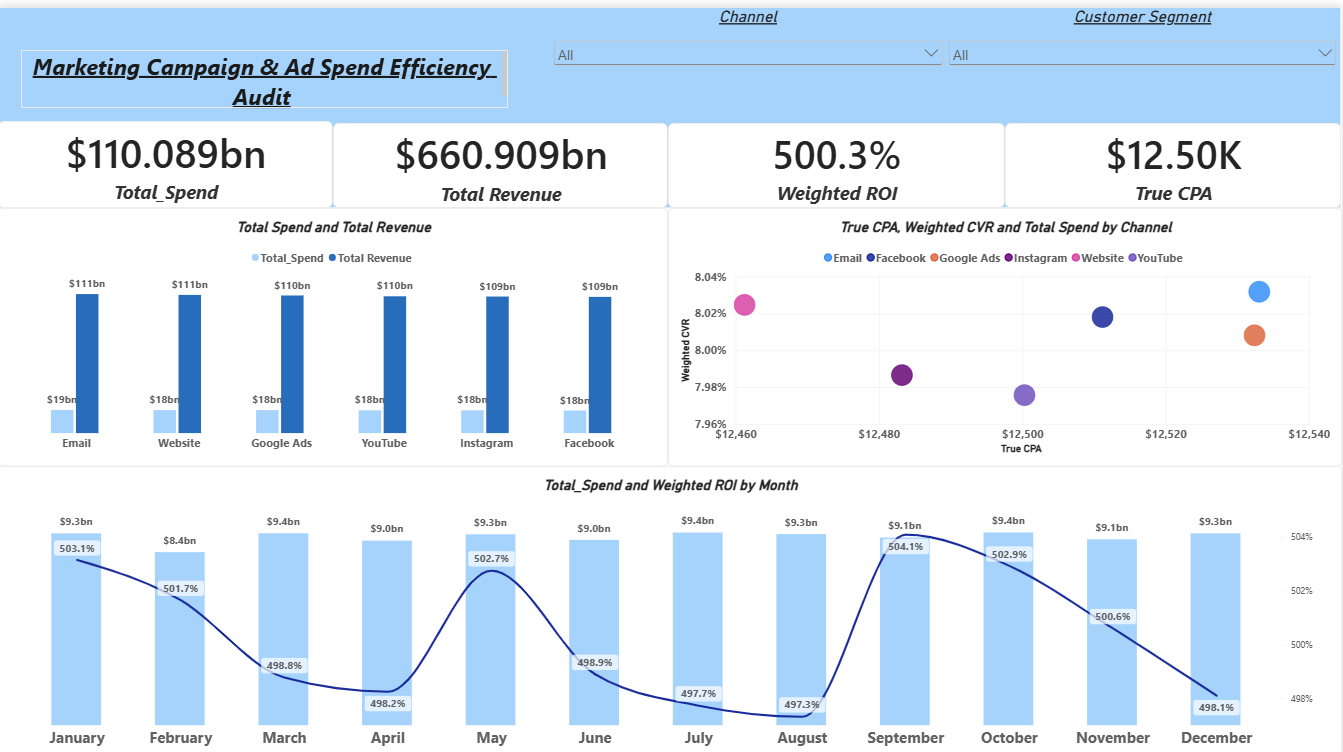

Layout of this report page (visuals, bound fields, positions):
{"tool":"powerbi","page":{"name":"Dashboard","canvas":[1920,1080],"ordinal":0},"visuals":[{"type":"shape","box":[0,0,1918.6,287.1],"z":0,"group":"g2"},{"type":"slicer","title":"Channel","fields":{"Values":["marketing_campaign_dataset.Channel_Used"]},"box":[788.6,0,565.7,134.3],"z":1000,"group":"g3"},{"type":"group","id":"g1","title":"Group 3","box":[0,0,1918.6,287.1],"z":1500},{"type":"slicer","title":"Customer Segment","fields":{"Values":["marketing_campaign_dataset.Customer_Segment"]},"box":[1352.9,0,564.3,102.9],"z":2000,"group":"g3"},{"type":"cardVisual","fields":{"Data":["_Measures.Total_Spend"]},"box":[0,162.9,478.6,124.3],"z":2000},{"type":"cardVisual","fields":{"Data":["_Measures.Weighted ROI"]},"box":[957.1,165.7,481.4,121.4],"z":3000},{"type":"cardVisual","fields":{"Data":["_Measures.True CPA"]},"box":[1438.6,165.7,480,121.4],"z":4000},{"type":"cardVisual","fields":{"Data":["_Measures.Total Revenue"]},"box":[478.6,165.7,478.6,121.4],"z":5000},{"type":"clusteredColumnChart","title":"Total Spend and Total Revenue","fields":{"Category":["marketing_campaign_dataset.Channel_Used"],"Y":["_Measures.Total_Spend","_Measures.Total Revenue"]},"box":[0,287.1,957.1,368.6],"z":6000},{"type":"scatterChart","title":"True CPA, Weighted CVR and Total Spend by Channel","fields":{"Series":["marketing_campaign_dataset.Channel_Used"],"Size":["_Measures.Total_Spend"],"X":["_Measures.True CPA"],"Y":["_Measures.Weighted CVR"]},"box":[957.1,287.1,962.9,368.6],"z":7000},{"type":"lineStackedColumnComboChart","fields":{"Category":["marketing_campaign_dataset.Date.Variation.Date Hierarchy.Year","marketing_campaign_dataset.Date.Variation.Date Hierarchy.Month","marketing_campaign_dataset.Date.Variation.Date Hierarchy.Day"],"Y":["_Measures.Total_Spend"],"Y2":["_Measures.Weighted ROI"]},"box":[0,655.7,1920,424.3],"z":8000},{"type":"textbox","box":[32.9,61.4,695.7,82.9],"z":9500,"group":"g2"},{"type":"group","id":"g2","title":"Group 2","box":[0,0,1918.6,287.1],"z":9501,"group":"g1"},{"type":"group","id":"g3","title":"Group 1","box":[788.6,0,1128.6,134.3],"z":10001,"group":"g1"}]}

Visuals, with their boxes in screenshot pixels (x1, y1, x2, y2), scaled from the page's 1920x1080 canvas onto the 1343x752 screenshot:
shape: (0, 0, 1342, 200)
"Channel" slicer: (552, 0, 947, 94)
"Group 3" group: (0, 0, 1342, 200)
"Customer Segment" slicer: (946, 0, 1341, 72)
cardVisual - _Measures.Total_Spend: (0, 113, 335, 200)
cardVisual - _Measures.Weighted ROI: (669, 115, 1006, 200)
cardVisual - _Measures.True CPA: (1006, 115, 1342, 200)
cardVisual - _Measures.Total Revenue: (335, 115, 670, 200)
"Total Spend and Total Revenue" clusteredColumnChart: (0, 200, 669, 457)
"True CPA, Weighted CVR and Total Spend by Channel" scatterChart: (669, 200, 1342, 457)
lineStackedColumnComboChart - marketing_campaign_dataset.Date.Variation.Date Hierarchy.Year x marketing_campaign_dataset.Date.Variation.Date Hierarchy.Month: (0, 457, 1342, 751)
textbox: (23, 43, 510, 100)
"Group 2" group: (0, 0, 1342, 200)
"Group 1" group: (552, 0, 1341, 94)
